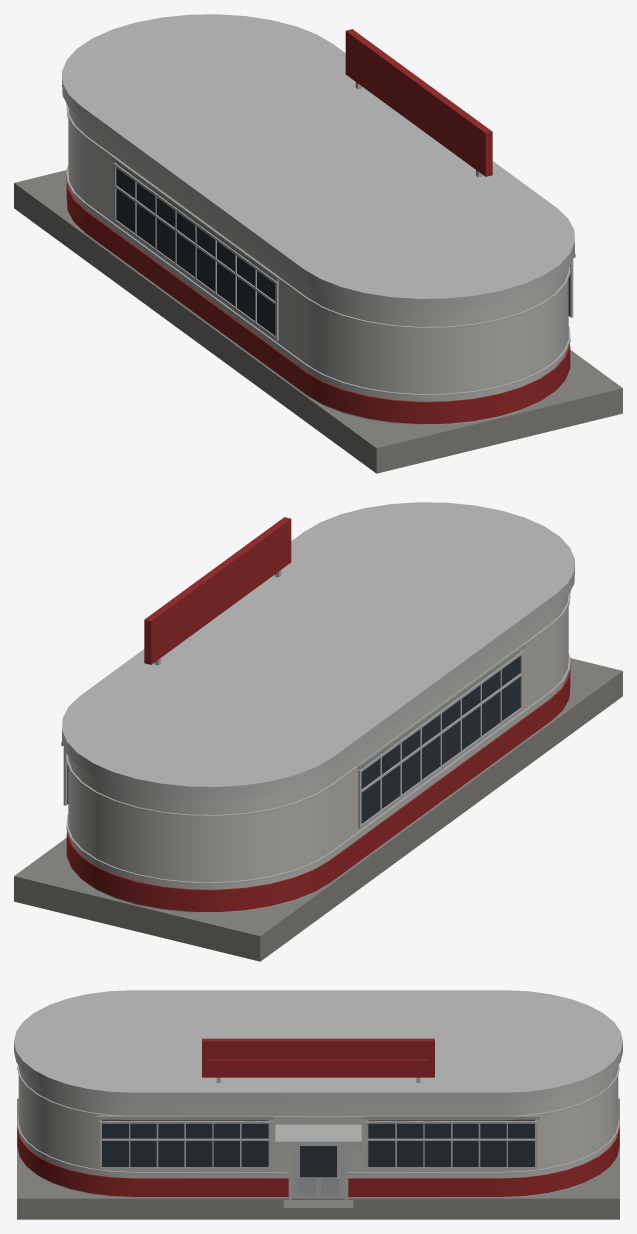
File: SM_Prop_cafe_building_16.glb
3 views of the same model, one above another, from view 1: azimuth 30°, elevation 25°; view 2: azimuth 150°, elevation 25°; view 3: azimuth 270°, elevation 25° (orthographic). The views are drawn at different scales.
Parts seen in each view (by area): view 1: SM_Prop_cafe_building_16; view 2: SM_Prop_cafe_building_16; view 3: SM_Prop_cafe_building_16.
Boxes of the visible parts, bbox=[...] form: SM_Prop_cafe_building_16: bbox=[14, 14, 622, 473]; SM_Prop_cafe_building_16: bbox=[14, 502, 622, 961]; SM_Prop_cafe_building_16: bbox=[14, 990, 622, 1219].
Size of the model in its own units: 8.34 by 5.65 by 18.28.
